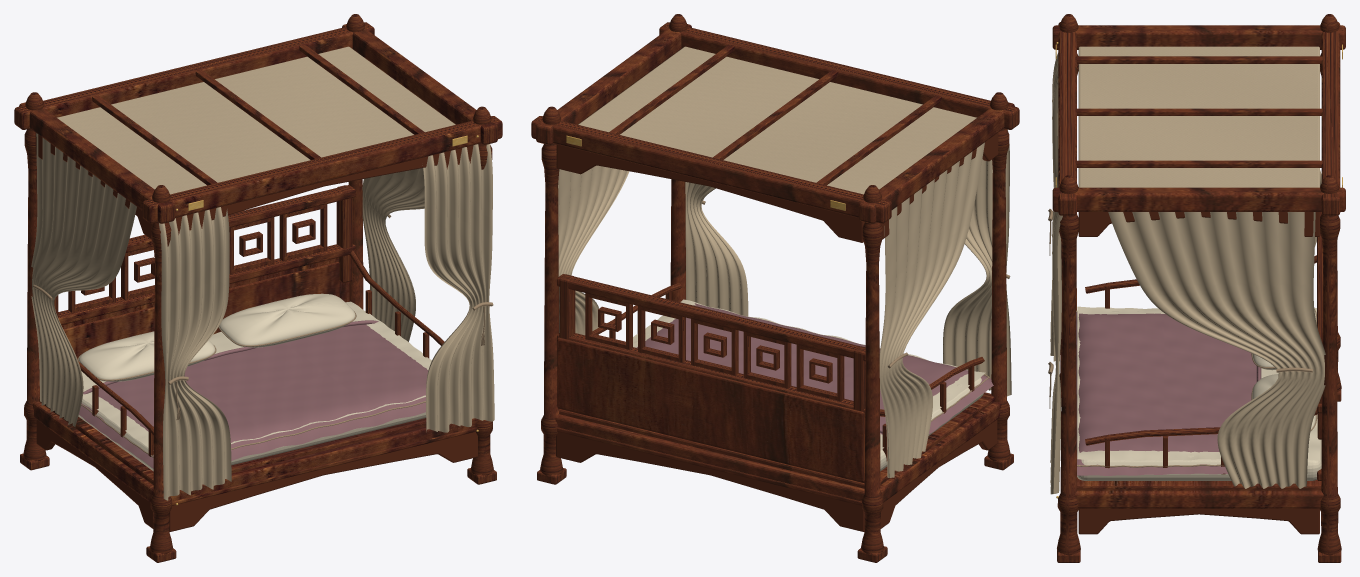
File: silk-chamber-canopy-bed.glb
3 renders of one model, left to right at view 1: azimuth 30°, elevation 25°; view 2: azimuth 150°, elevation 25°; view 3: azimuth 270°, elevation 25°, orthographic. The views are drawn at different scales.
Visible parts, largest first — view 1: Gathered champagne silk original weave, Dark rosewood timber CC0, Dusty rose coverlet original weave, Fitted ivory linen original weave, Muted golden silk braid; view 2: Dark rosewood timber CC0, Gathered champagne silk original weave, Dusty rose coverlet original weave, Fitted ivory linen original weave; view 3: Gathered champagne silk original weave, Dark rosewood timber CC0, Dusty rose coverlet original weave, Fitted ivory linen original weave, Muted golden silk braid.
Boxes of the visible parts, x1=… form: Gathered champagne silk original weave: x1=31, y1=46, x2=494, y2=500; Dark rosewood timber CC0: x1=14, y1=14, x2=502, y2=562; Dusty rose coverlet original weave: x1=79, y1=320, x2=428, y2=468; Fitted ivory linen original weave: x1=78, y1=293, x2=431, y2=471; Muted golden silk braid: x1=33, y1=214, x2=493, y2=457; Dark rosewood timber CC0: x1=531, y1=14, x2=1019, y2=562; Gathered champagne silk original weave: x1=558, y1=46, x2=1011, y2=477; Dusty rose coverlet original weave: x1=636, y1=303, x2=993, y2=434; Fitted ivory linen original weave: x1=633, y1=299, x2=985, y2=471; Gathered champagne silk original weave: x1=1050, y1=46, x2=1325, y2=494; Dark rosewood timber CC0: x1=1052, y1=14, x2=1345, y2=562; Dusty rose coverlet original weave: x1=1076, y1=312, x2=1261, y2=475; Fitted ivory linen original weave: x1=1077, y1=306, x2=1321, y2=480; Muted golden silk braid: x1=1048, y1=209, x2=1317, y2=467.
Size of the model in its own units: 3.48 by 3.49 by 2.47.
6 materials, 5 textured.
